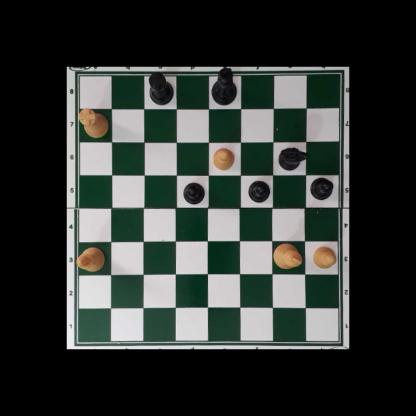black-king: (210, 67, 237, 107)
black-knight: (277, 147, 309, 171)
black-pawn: (310, 177, 333, 200), (182, 182, 205, 205), (248, 179, 270, 203)
black-rook: (148, 71, 174, 106)
white-bishop: (76, 246, 105, 275)
white-king: (273, 242, 302, 270)
white-pawn: (311, 245, 336, 269), (211, 146, 235, 171)
white-rook: (78, 109, 109, 139)
